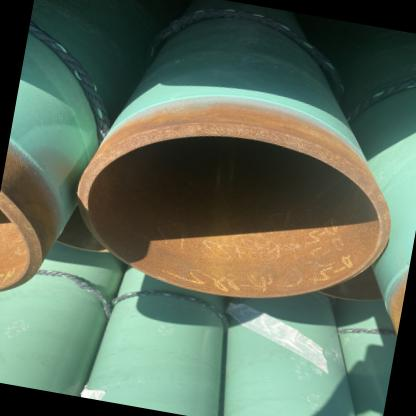clean: (225, 98, 296, 159)
